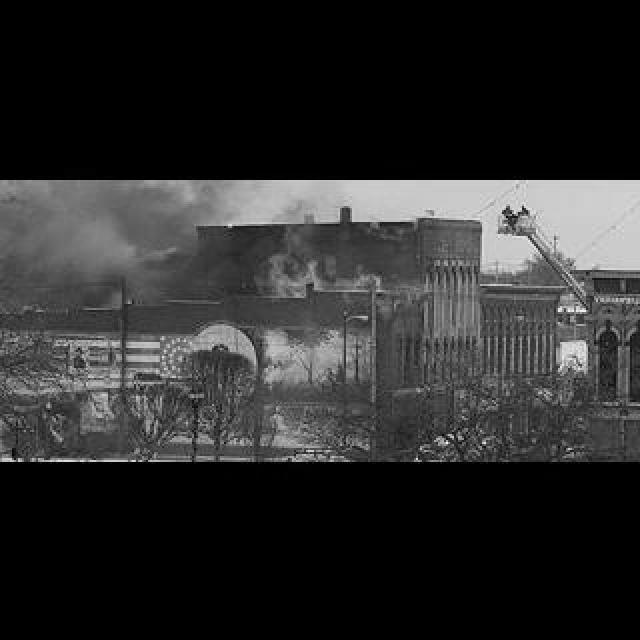Fire: (246, 246, 384, 300)
Smoke: (6, 184, 242, 320)
